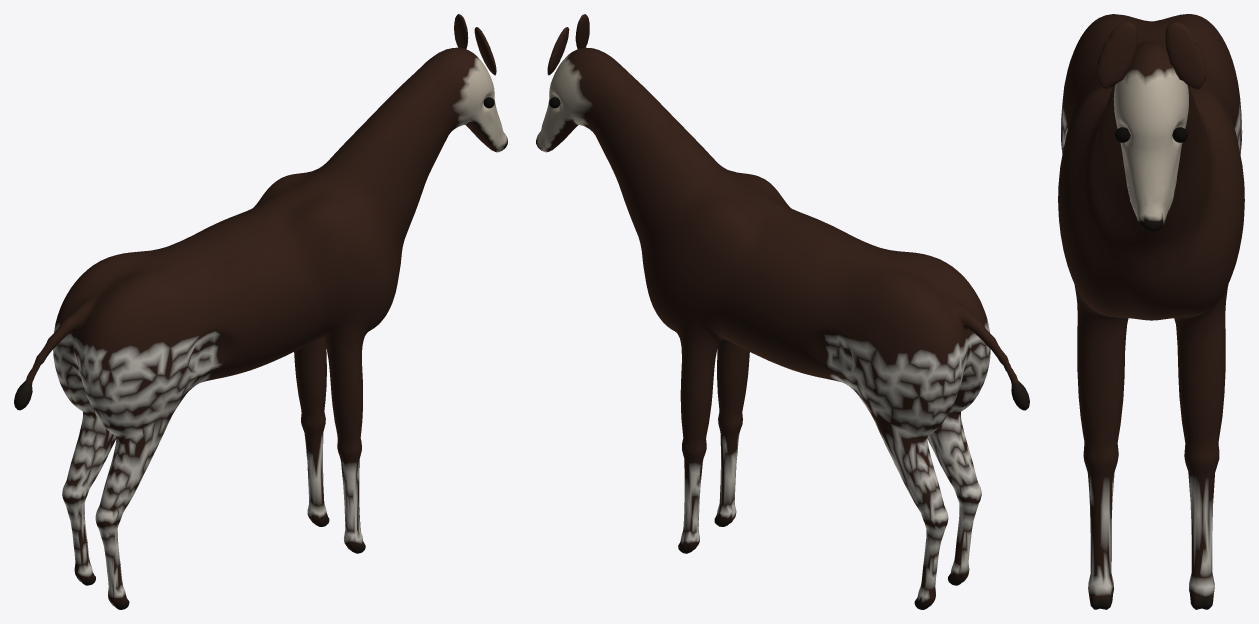
File: okapi.glb
3 renders of one model, left to right at view 1: azimuth 30°, elevation 25°; view 2: azimuth 150°, elevation 25°; view 3: azimuth 270°, elevation 25°, orthographic. The views are drawn at different scales.
Parts seen in each view (by area): view 1: okapi; view 2: okapi; view 3: okapi.
Part boxes in pixels (x1=…): okapi: x1=14, y1=14, x2=507, y2=609; okapi: x1=536, y1=14, x2=1029, y2=609; okapi: x1=1058, y1=14, x2=1244, y2=609.
Bounding box in the file's own units: 2.25 × 2.13 × 0.5337.
